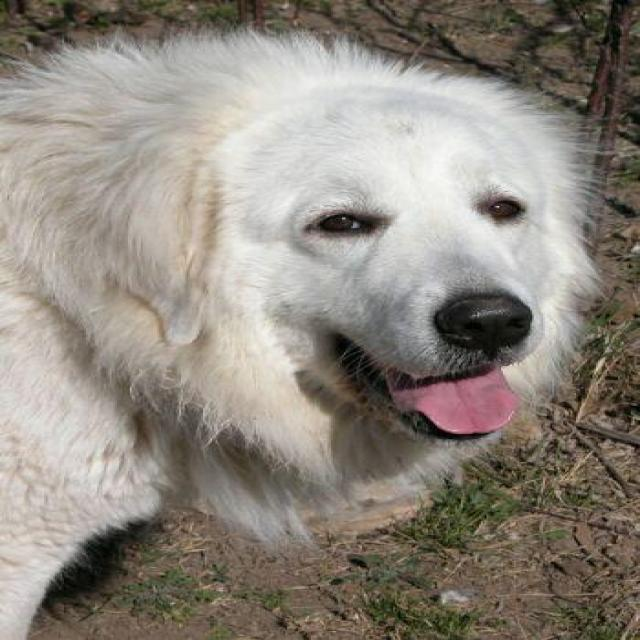Dogs: (0, 21, 607, 638)
